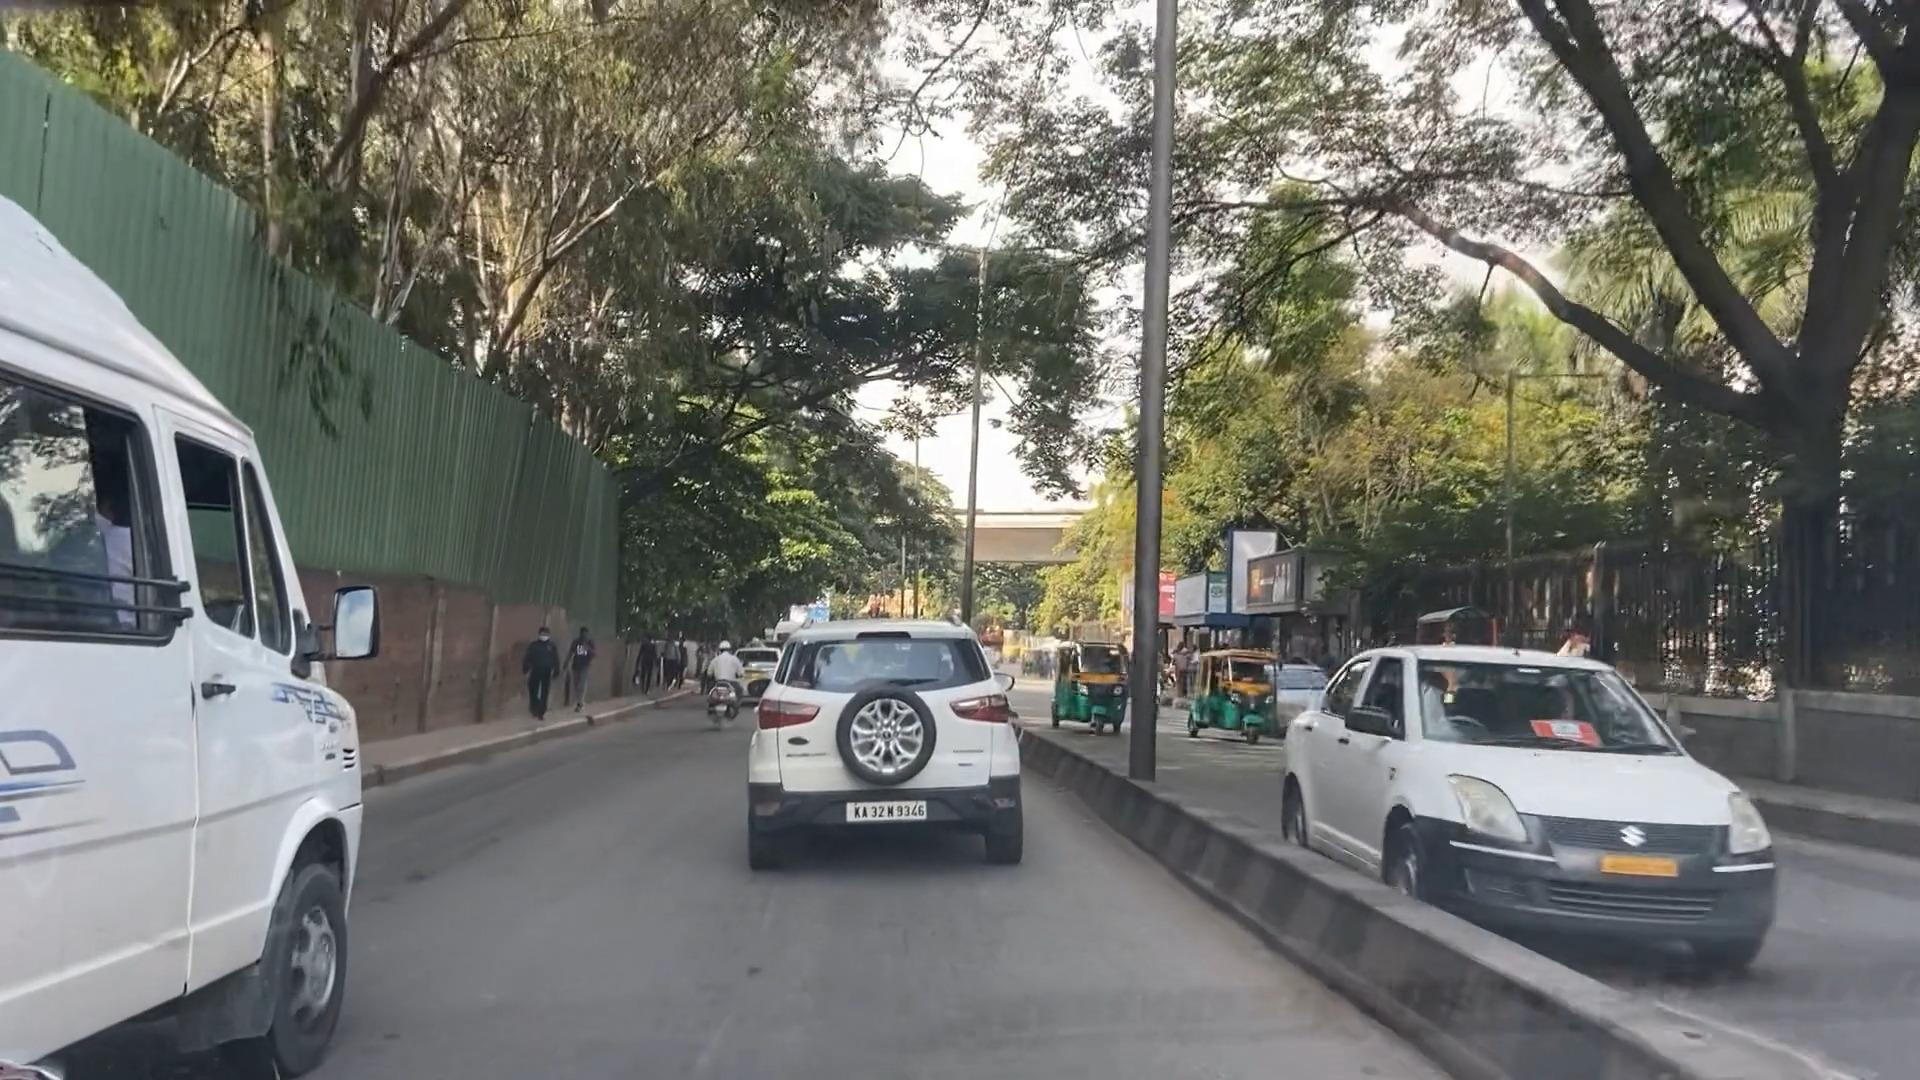HMV: (0, 203, 409, 1080)
LMV: (716, 616, 1039, 873)
